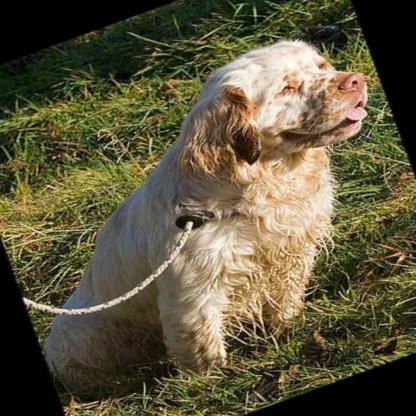clumber: (0, 14, 416, 416)
